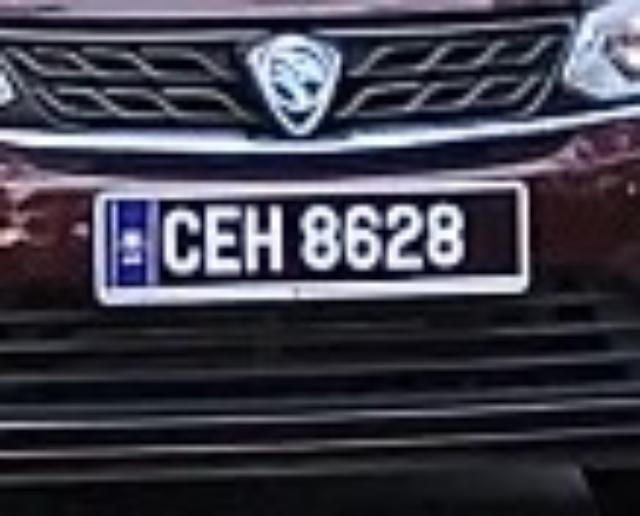License_Plate: (66, 157, 565, 333)
